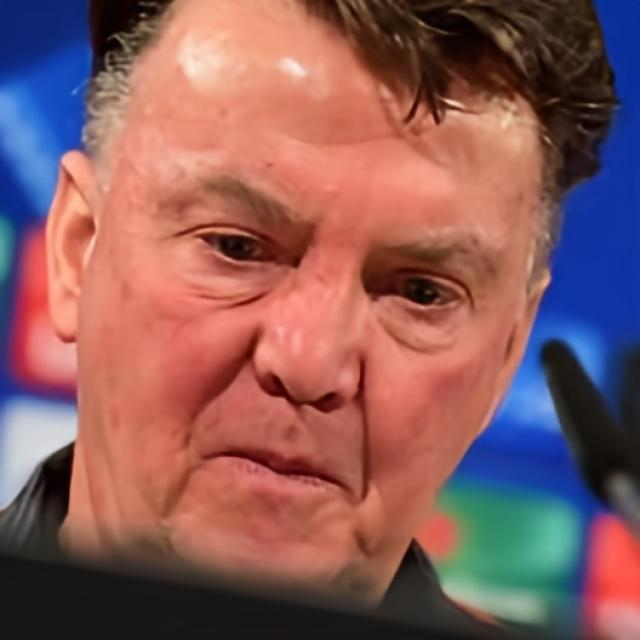anger: (91, 24, 515, 587)
